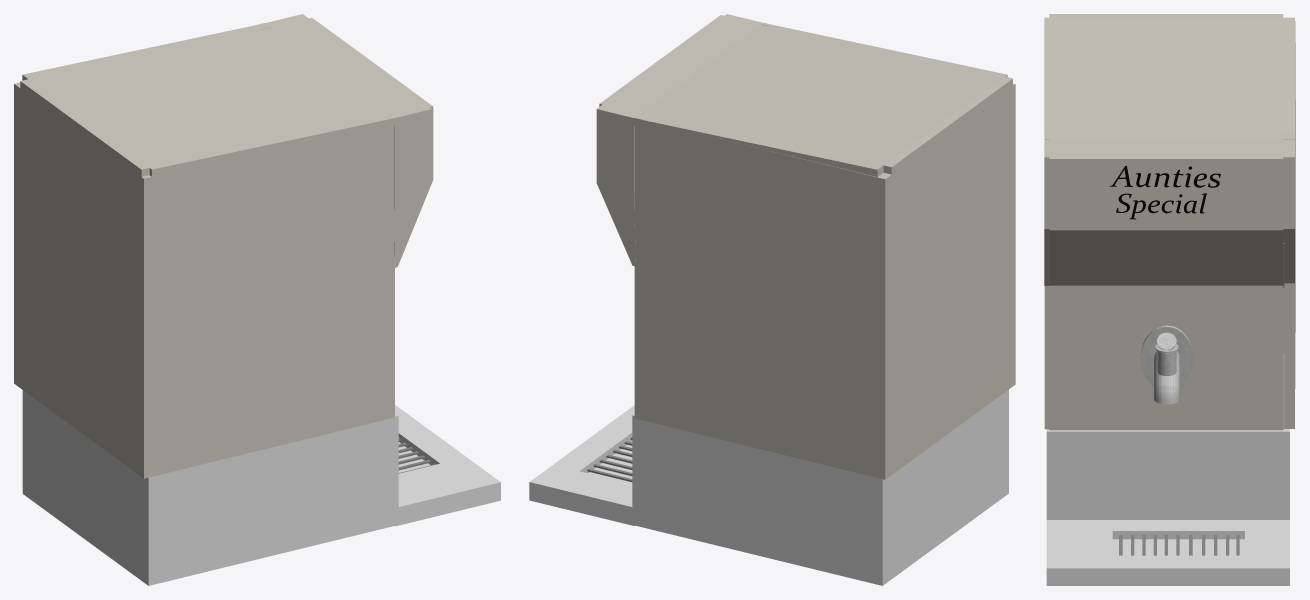
Rendered from slushiemachine3.fbx.
3 renders of one model, left to right at view 1: azimuth 30°, elevation 25°; view 2: azimuth 150°, elevation 25°; view 3: azimuth 270°, elevation 25°, orthographic. The views are drawn at different scales.
Parts seen in each view (by area): view 1: Cube; view 2: Cube; view 3: Cube.
Boxes of the visible parts, bbox=[...] form: Cube: bbox=[14, 14, 500, 585]; Cube: bbox=[529, 14, 1015, 585]; Cube: bbox=[1044, 14, 1295, 585].
Bounding box in the file's own units: 686 × 764 × 431.
Materials: 25 (18 with a texture image).
